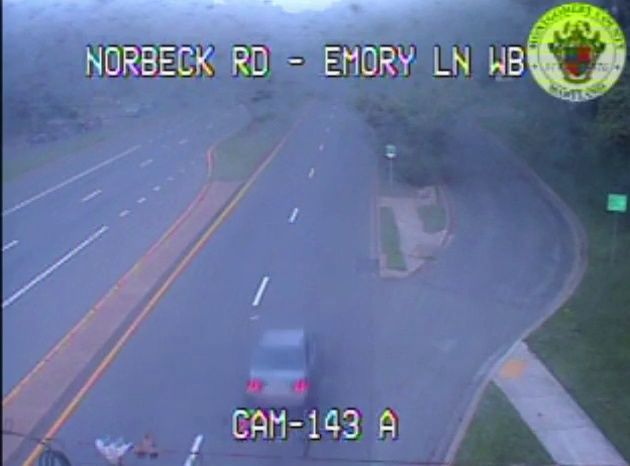car: (245, 330, 319, 411)
